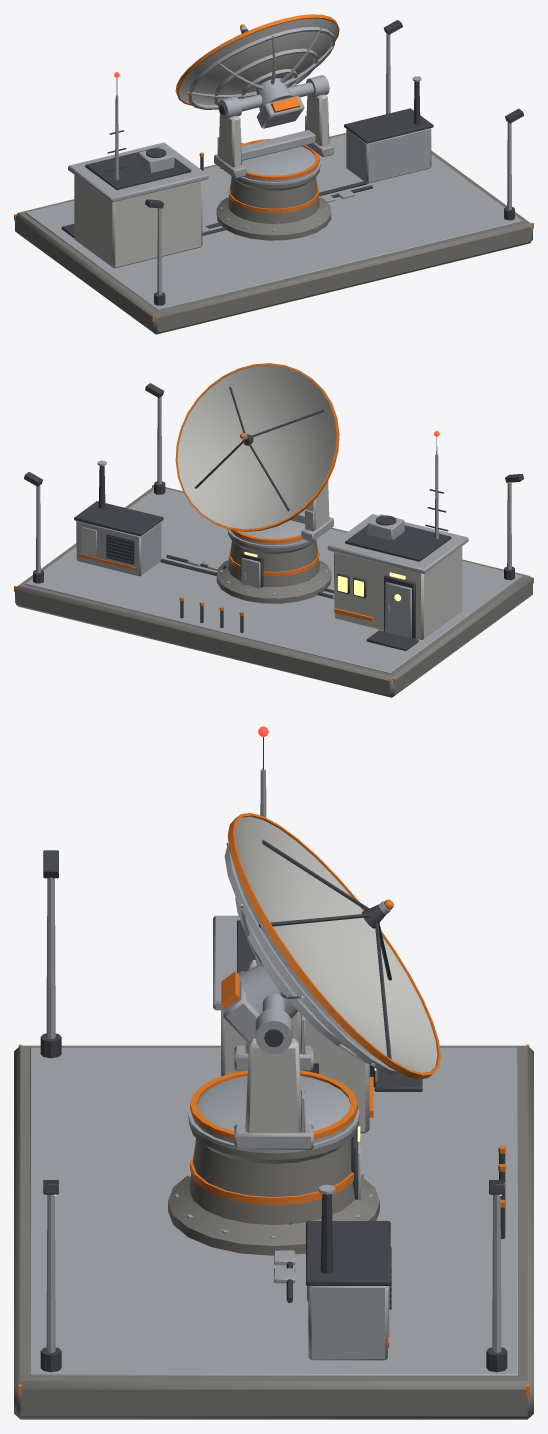
Rendered from comm_dish_a.glb.
The picture shows the model from 3 angles, top to bottom: view 1: azimuth 30°, elevation 25°; view 2: azimuth 150°, elevation 25°; view 3: azimuth 270°, elevation 25°; orthographic projection. The views are drawn at different scales.
Parts seen in each view (by area): view 1: Base, Dish_El, Dish_Az; view 2: Base, Dish_El, Dish_Az; view 3: Base, Dish_El, Dish_Az.
Part boxes in pixels (box(x1,y1,x2,y2)): Base: box(14, 20, 533, 334); Dish_El: box(175, 14, 339, 128); Dish_Az: box(214, 75, 333, 181); Base: box(14, 383, 533, 697); Dish_El: box(175, 363, 339, 531); Dish_Az: box(230, 481, 333, 545); Base: box(14, 737, 533, 1419); Dish_El: box(221, 812, 440, 1079); Dish_Az: box(190, 956, 357, 1149).
Size of the model in its own units: 15.25 by 8.73 by 9.8.
